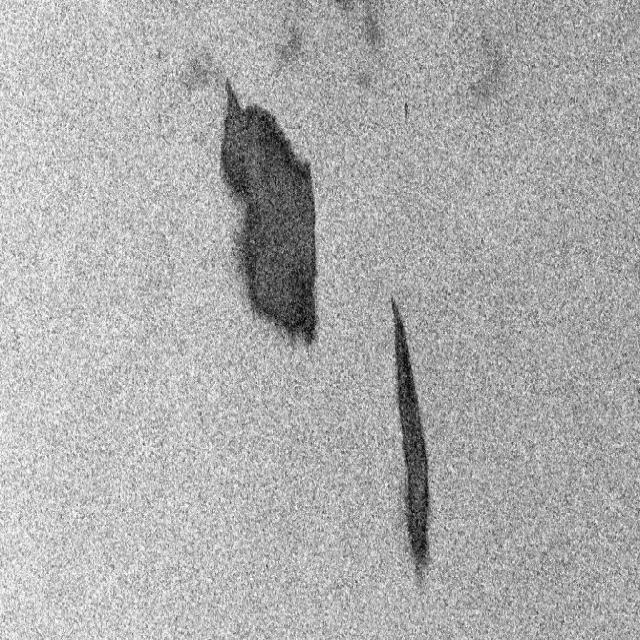oil-spill: (212, 75, 330, 356), (382, 287, 443, 589)
